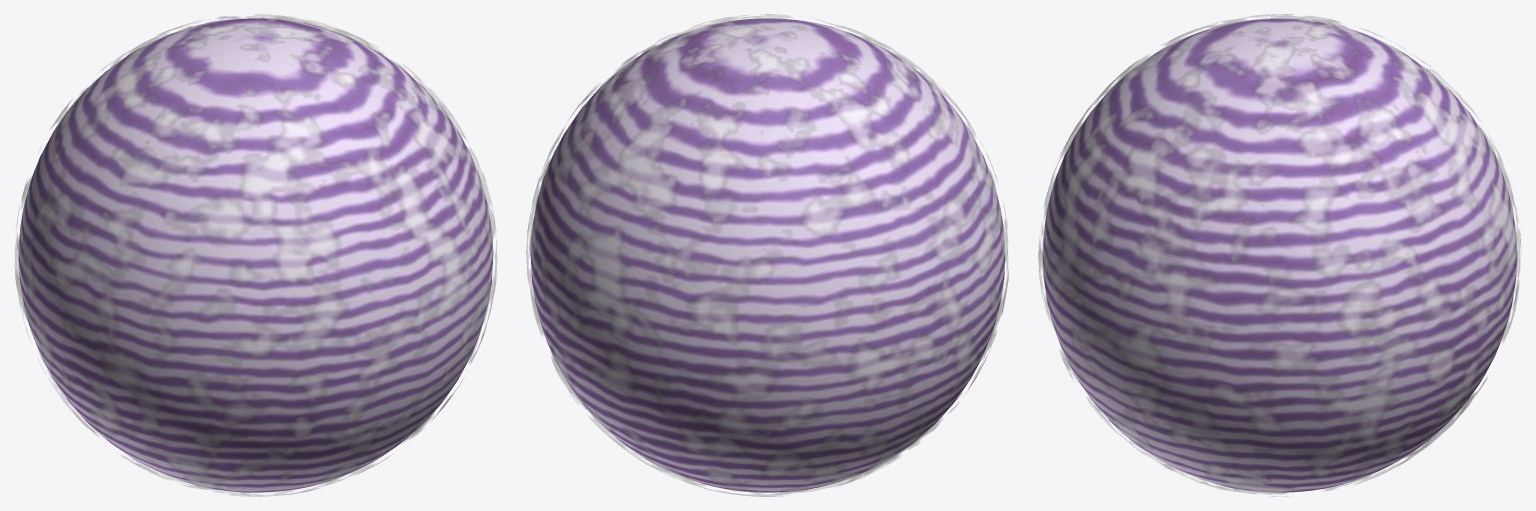
Rendered from planet_gas_002.glb.
The picture shows the model from 3 angles, left to right: view 1: azimuth 30°, elevation 25°; view 2: azimuth 150°, elevation 25°; view 3: azimuth 270°, elevation 25°; orthographic projection.
Parts seen in each view (by area): view 1: Planet_gas_002, Clouds_gas_002; view 2: Planet_gas_002, Clouds_gas_002; view 3: Planet_gas_002, Clouds_gas_002.
Boxes of the visible parts, bbox=[...] form: Planet_gas_002: bbox=[18, 18, 493, 492]; Clouds_gas_002: bbox=[14, 14, 497, 496]; Planet_gas_002: bbox=[530, 18, 1005, 492]; Clouds_gas_002: bbox=[526, 14, 1008, 496]; Planet_gas_002: bbox=[1042, 18, 1517, 492]; Clouds_gas_002: bbox=[1038, 14, 1521, 496].
Bounding box in the file's own units: 2.04 × 2.04 × 2.04.
2 materials, 2 textured.
